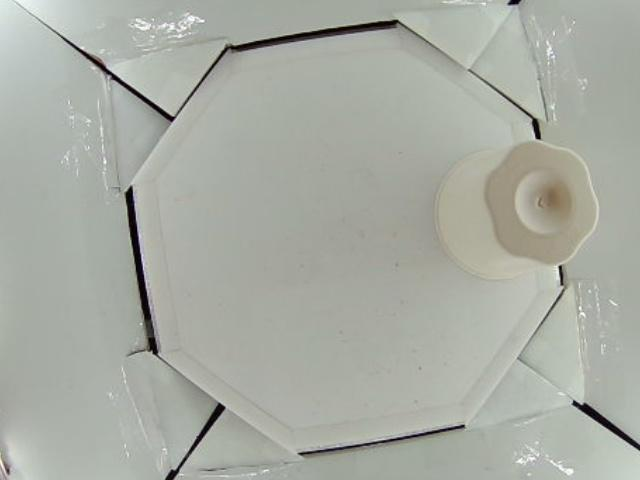Cup: (432, 142, 602, 277)
